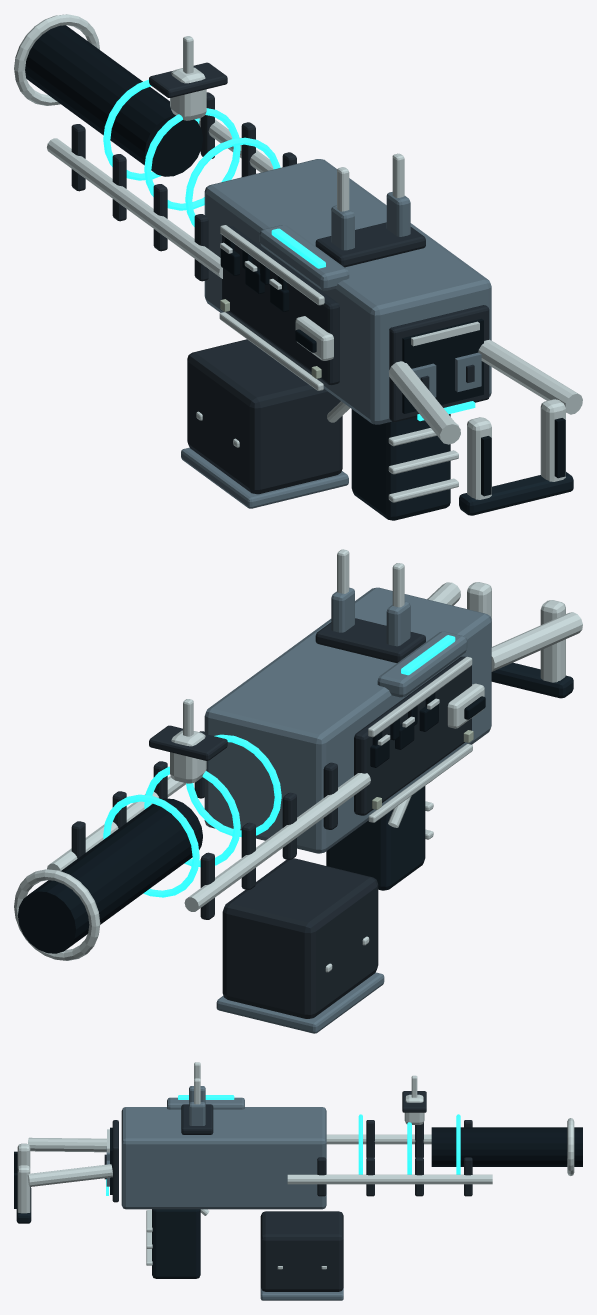
Rendered from weapon-0.glb.
3 views of the same model, one above another, from view 1: azimuth 30°, elevation 25°; view 2: azimuth 150°, elevation 25°; view 3: azimuth 270°, elevation 25° (orthographic). The views are drawn at different scales.
Visible parts, largest first — view 1: body-light, body-trim, feed-dark, body-dark, barrel-assembly-cavity, body-rubber, body-cavity, body-glow, feed-light, bolt-trim; view 2: body-light, feed-dark, body-trim, body-dark, barrel-assembly-cavity, body-rubber, body-glow, feed-light, body-cavity, bolt-trim; view 3: body-light, body-trim, feed-dark, barrel-assembly-cavity, body-rubber, body-dark, body-glow, feed-light, body-cavity.
Part boxes in pixels (x1,y1,x2,y2): body-light: (204,159,491,424); body-trim: (14,14,582,502); feed-dark: (187,339,342,494); body-dark: (71,62,489,422); barrel-assembly-cavity: (25,25,202,176); body-rubber: (351,409,573,520); body-cavity: (220,237,565,496); body-glow: (103,79,475,421); feed-light: (181,447,348,508); bolt-trim: (295,316,333,360); body-light: (204,587,491,853); feed-dark: (222,858,378,1018); body-trim: (14,549,582,960); body-dark: (71,618,471,919); barrel-assembly-cavity: (18,798,202,953); body-rubber: (326,662,573,890); body-glow: (103,635,455,897); feed-light: (216,972,384,1033); body-cavity: (370,692,438,767); bolt-trim: (447,683,484,728); body-light: (106,1086,326,1209); body-trim: (17,1062,574,1265); feed-dark: (260,1211,343,1291); barrel-assembly-cavity: (431,1127,582,1166); body-rubber: (16,1187,200,1278); body-dark: (104,1091,472,1202); body-glow: (106,1095,460,1195); feed-light: (260,1287,343,1300); body-cavity: (14,1127,112,1208).
Size of the model in its own units: 0.2295 by 0.4995 by 1.17.
